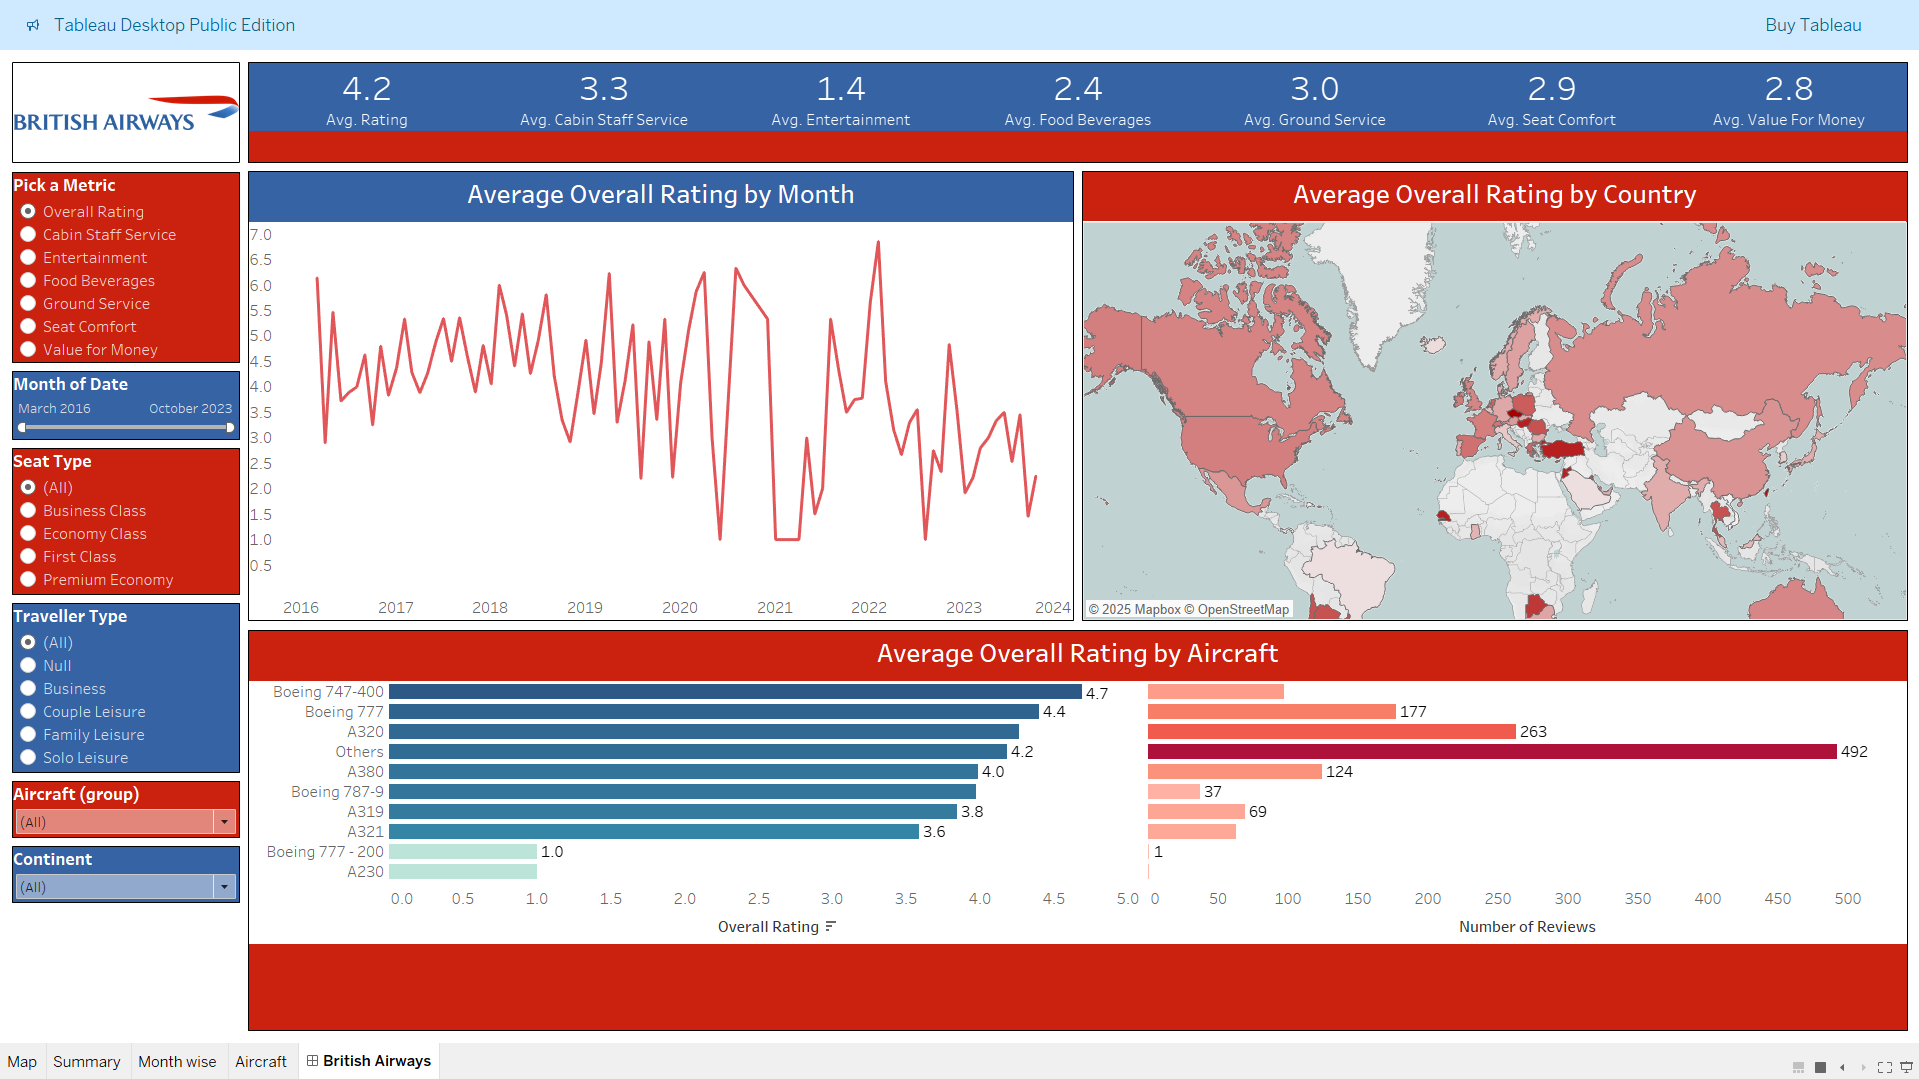

The dashboard page shown, as its layout file describes it:
{"tool":"tableau","page":{"name":"British Airways","canvas":[1000,1000],"units":"permille","ordinal":0},"visuals":[{"type":"image","param":"Image/British_Airways_Logo.svg.png","box":[4.8,10,122.5,109.9]},{"type":"worksheet","title":"Summary","mark":"Automatic","box":[127.3,10,867.8,109.9]},{"type":"worksheet","title":"Month wise","mark":"Automatic","rows":["Calculation_812055310784434176"],"cols":["date"],"box":[127.3,119.8,433.9,459.4]},{"type":"worksheet","title":"Map","mark":"Automatic","box":[561.3,119.8,433.9,459.4]},{"type":"parameter","param":"[Parameters].[Parameter 1]","box":[4.8,119.9,122.5,209.1]},{"type":"filter","title":"Map","param":"[federated.1xjybdb0u8xslt13de91y1q9fwc4].[tmn:date:qk]","box":[4.8,329,122.5,96.1]},{"type":"filter","title":"Map","param":"[federated.1xjybdb0u8xslt13de91y1q9fwc4].[none:seat_type:nk]","box":[4.8,425.1,122.5,193.5]},{"type":"worksheet","title":"Aircraft","mark":"Automatic","cols":["Calculation_812055310784434176","ba_reviews.csv_5AAD4E11E1B34E81A77A98F7FC64D60D"],"box":[127.3,579.3,867.8,410.7]},{"type":"filter","title":"Map","param":"[federated.1xjybdb0u8xslt13de91y1q9fwc4].[none:traveller_type:nk]","box":[4.8,618.6,122.5,209.1]},{"type":"filter","title":"Map","param":"[federated.1xjybdb0u8xslt13de91y1q9fwc4].[Aircraft (group)]","box":[4.8,827.7,122.5,81.2]},{"type":"filter","title":"Map","param":"[federated.1xjybdb0u8xslt13de91y1q9fwc4].[none:Continent:nk]","box":[4.8,908.9,122.5,81.2]}]}

Visuals, with their boxes on the dashboard's canvas, which has no fixed pixel size, in thousandths of its width and height (x1, y1, x2, y2). These are canvas units, not pixel positions in the 1919x1079 screenshot, which may show the page scaled, cropped or inside an application window:
image: <box>5,10,127,120</box>
"Summary" worksheet: <box>127,10,995,120</box>
"Month wise" worksheet: <box>127,120,561,579</box>
"Map" worksheet: <box>561,120,995,579</box>
parameter: <box>5,120,127,329</box>
"Map" filter: <box>5,329,127,425</box>
"Map" filter: <box>5,425,127,619</box>
"Aircraft" worksheet: <box>127,579,995,990</box>
"Map" filter: <box>5,619,127,828</box>
"Map" filter: <box>5,828,127,909</box>
"Map" filter: <box>5,909,127,990</box>
